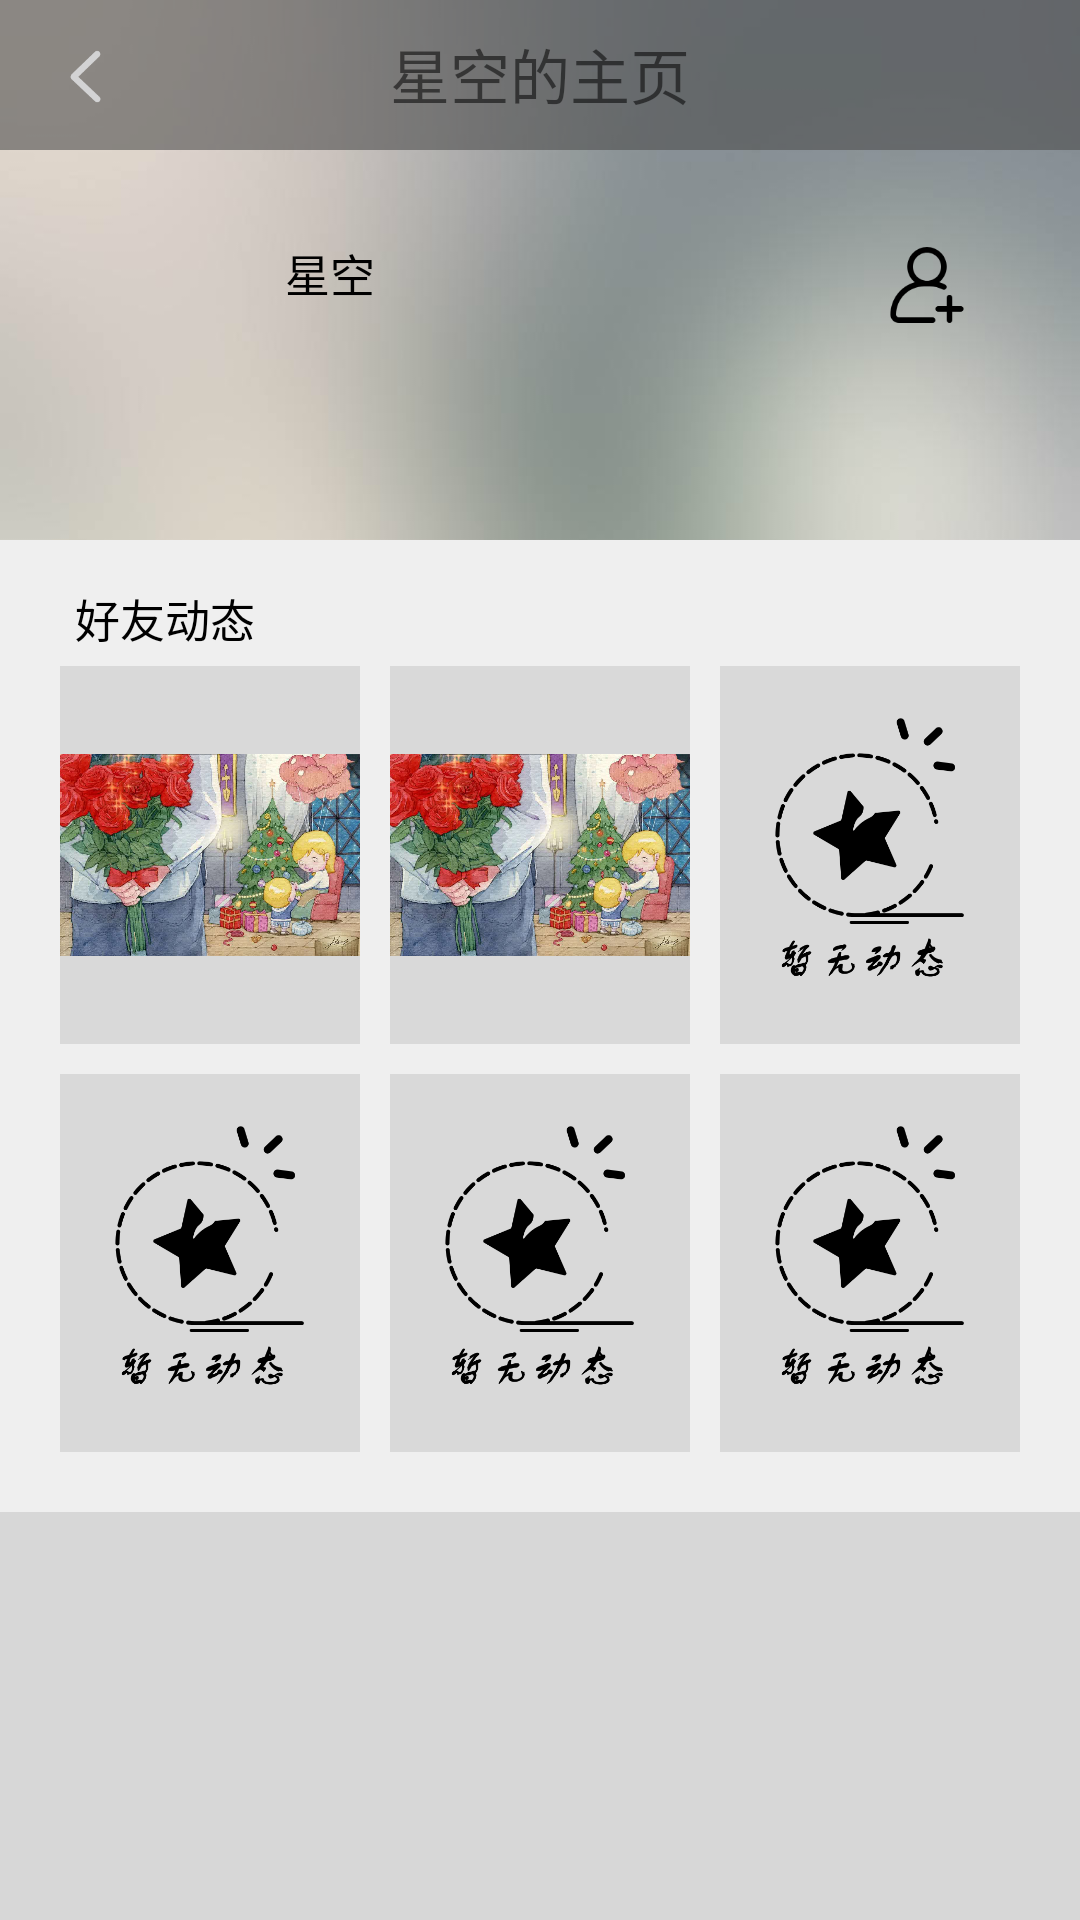

Locate icon controls on the screen. Image size 1080 x 1920, boxes as [x1,y1,x2,y2].
add friend: [882,247,972,330]
back: [70,51,101,102]
